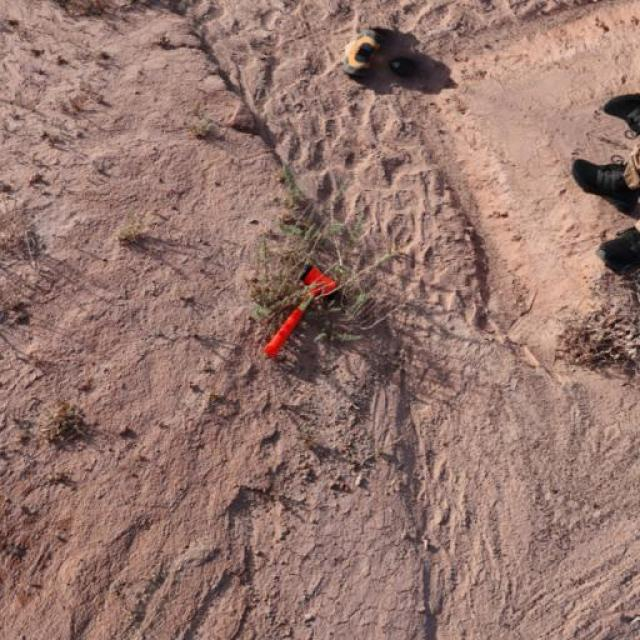mallet: (264, 261, 341, 359)
